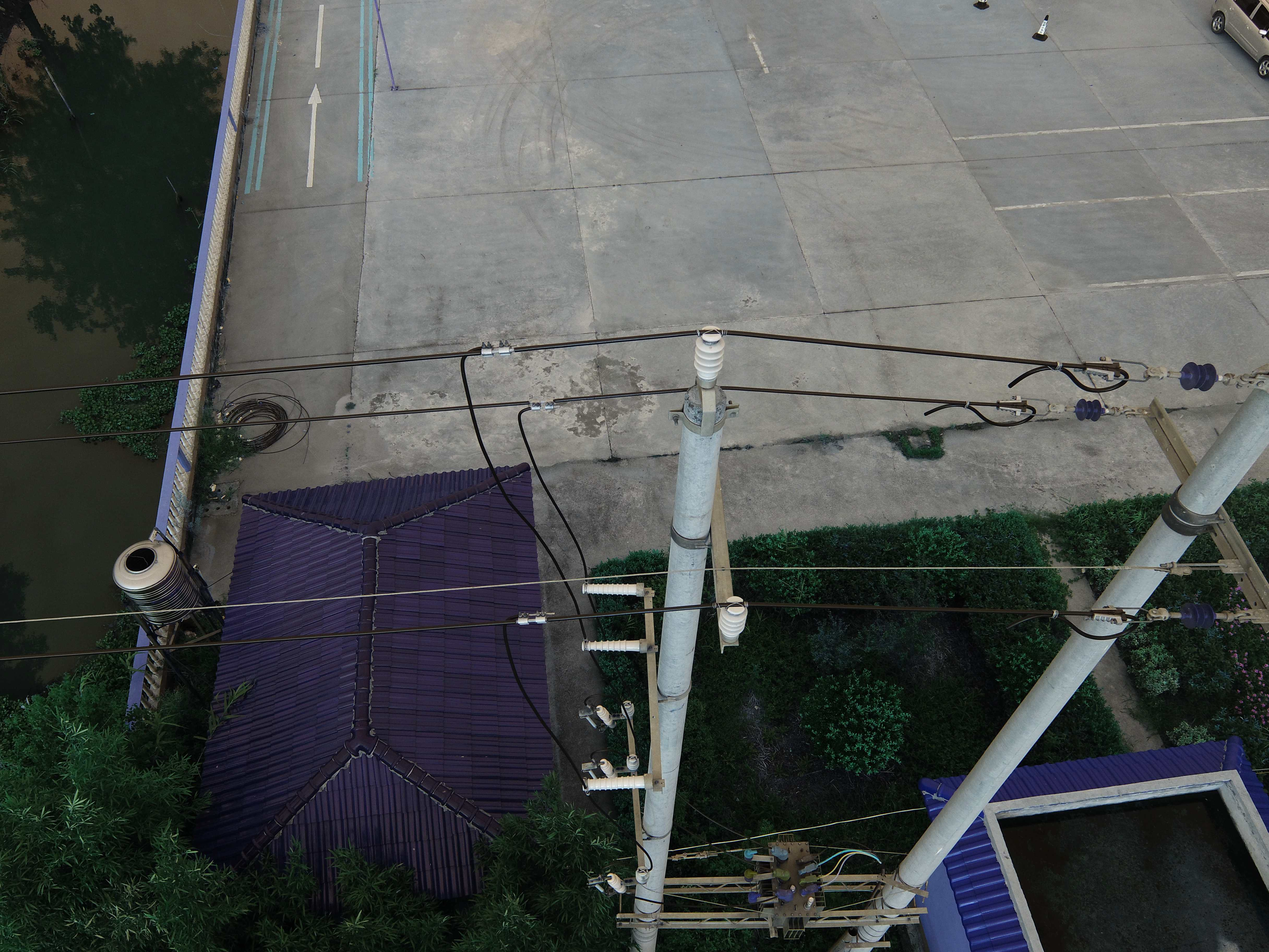severe_soiling_no_discharge_whole: (634, 864, 649, 884)
